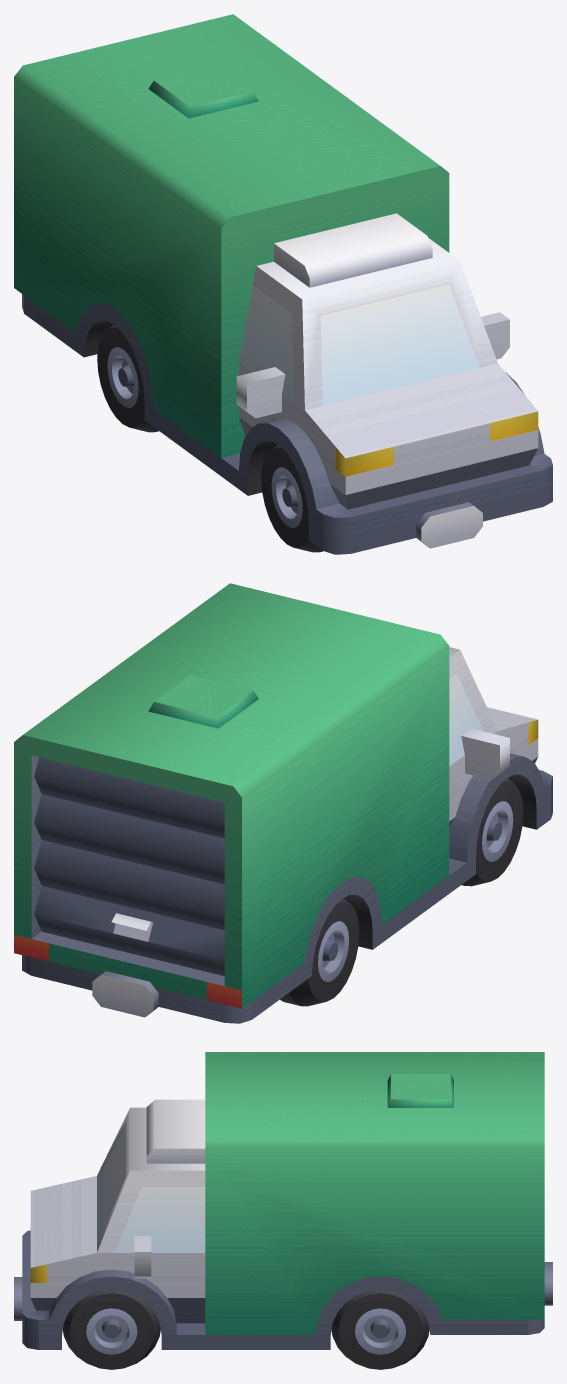
Rendered from delivery.glb.
3 views of the same model, one above another, from view 1: azimuth 30°, elevation 25°; view 2: azimuth 150°, elevation 25°; view 3: azimuth 270°, elevation 25° (orthographic). The views are drawn at different scales.
Parts seen in each view (by area): view 1: body, wheel-front-right, wheel-back-right; view 2: body, door, wheel-back-right, wheel-front-right; view 3: body, wheel-back-left, wheel-front-left.
Part boxes in pixels (x1,y1,x2,y2): body: [14, 14, 552, 554]; wheel-front-right: [261, 444, 323, 552]; wheel-back-right: [97, 324, 158, 432]; body: [14, 583, 552, 1023]; door: [34, 757, 224, 976]; wheel-back-right: [280, 898, 359, 1006]; wheel-front-right: [461, 778, 523, 886]; body: [14, 1052, 552, 1349]; wheel-back-left: [331, 1290, 429, 1369]; wheel-front-left: [63, 1290, 160, 1369].
Size of the model in its own units: 1.5 by 1.65 by 3.25.
Materials: 1 (1 with a texture image).
